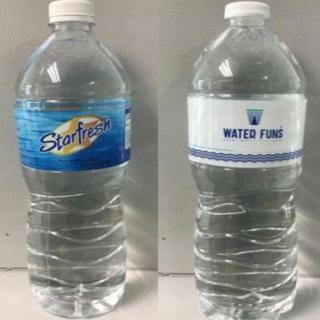Plastic-bottle: (177, 1, 309, 320), (15, 1, 139, 320)
